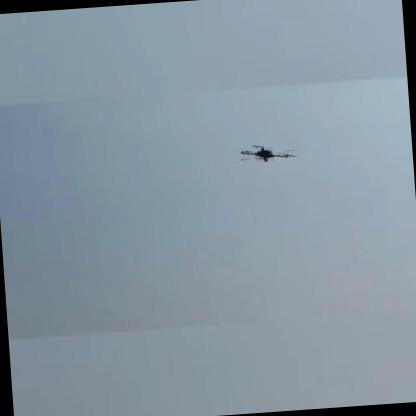drone: (233, 139, 303, 173)
